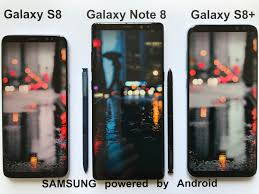samsung: (88, 19, 167, 185), (1, 31, 67, 176)
